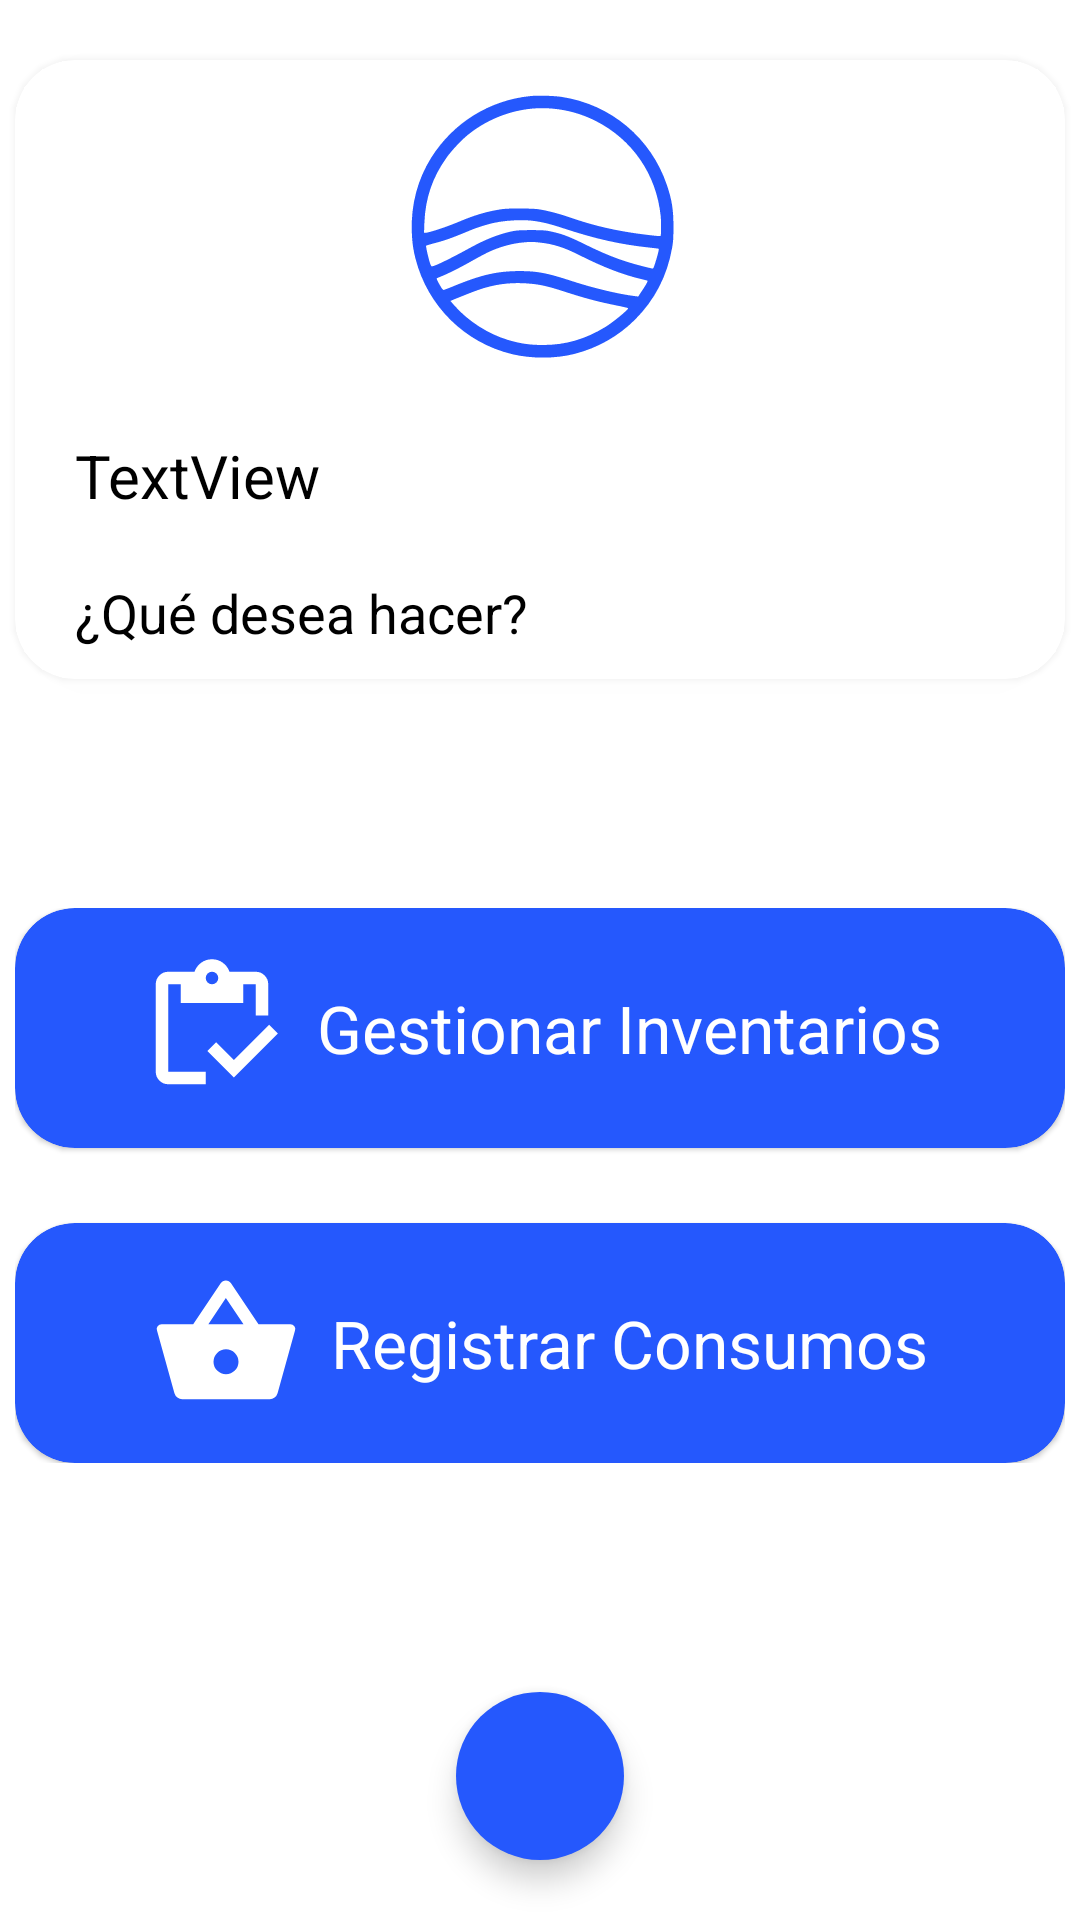

Icons on this 1080*1920 Android screen, each with the point to tap as [x,y]:
gestionar inventarioo: [216,1022]
